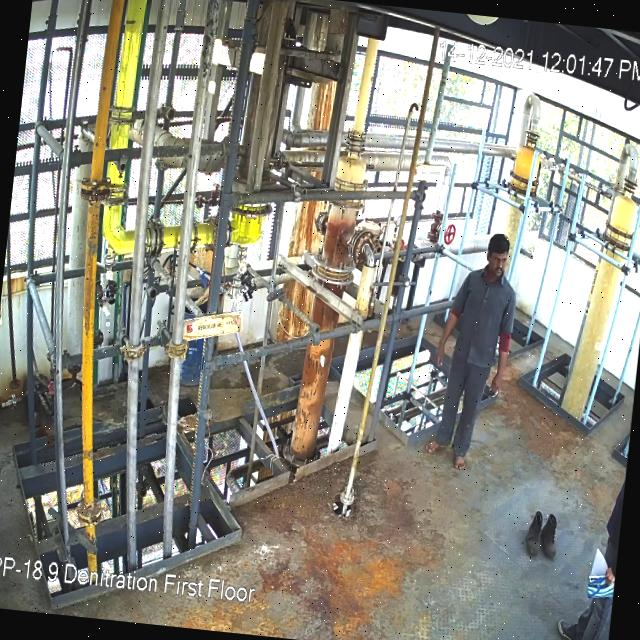boots: (522, 508, 549, 558), (540, 513, 562, 558)
no-boots: (422, 438, 448, 454), (448, 452, 466, 474)
